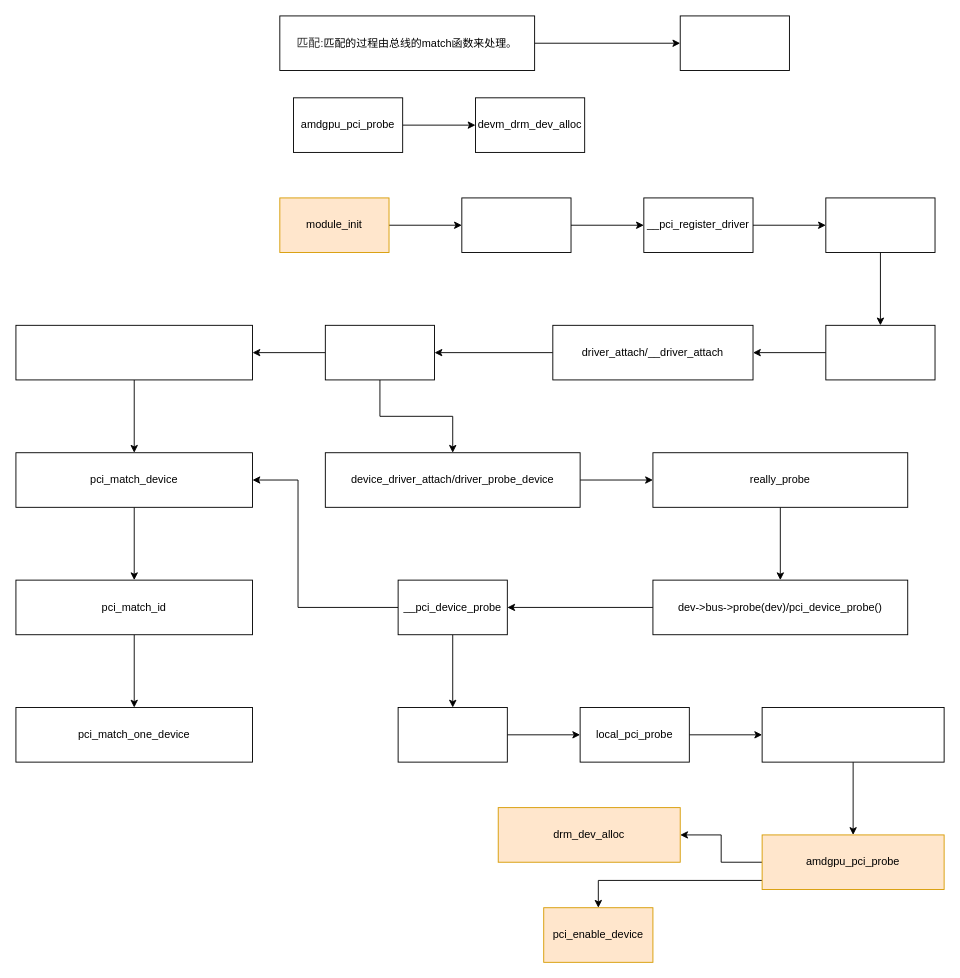
Some shapes in this 960 by 978 pixel diagram are drawn without their labels. The centre of each missing label's shape, as x and y in pixels:
"bus_add_driver" goes at pixel 880 352.
"driver_match_device" goes at pixel 379 352.
"driver_register" goes at pixel 880 225.
"drv->bus->match(dev, drv)/pci_bus_match()" goes at pixel 134 352.
"pci_call_probe" goes at pixel 452 734.
"pci_drv->probe(pci_dev, ddi->id)" goes at pixel 852 734.
"pci_register_driver" goes at pixel 516 225.
"探测" goes at pixel 734 43.
